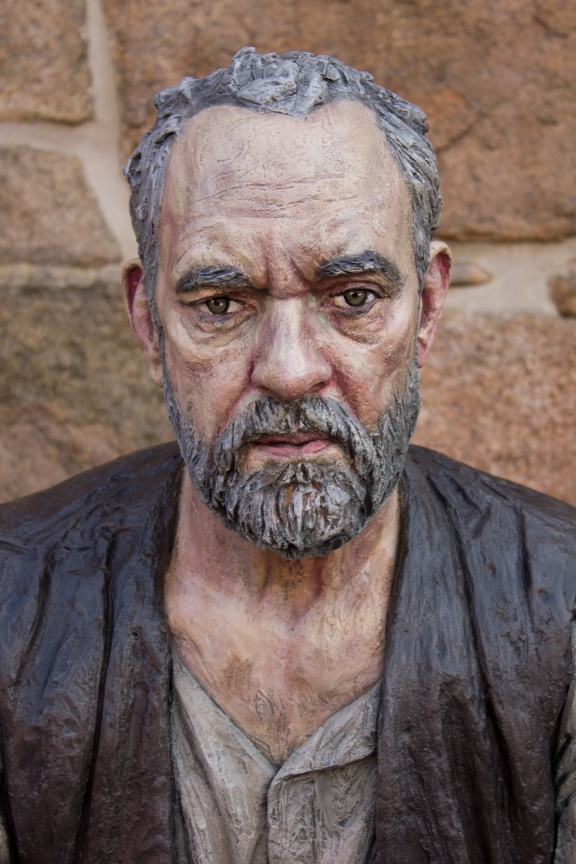Forehead: (155, 127, 420, 273)
